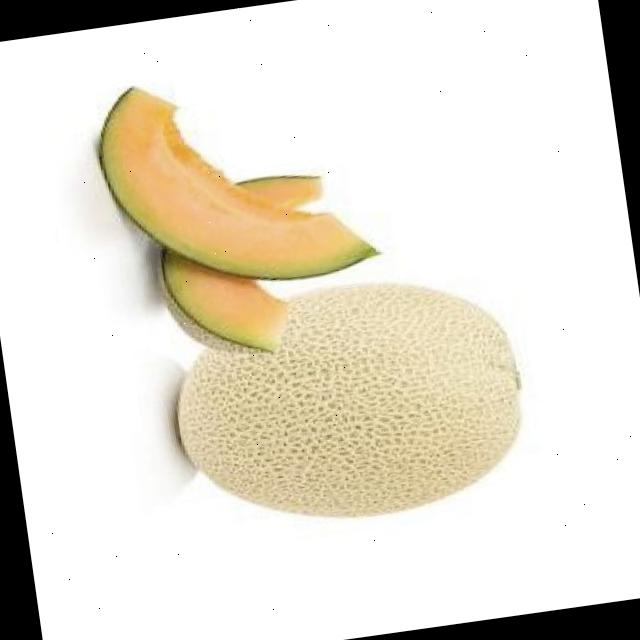Hami Melon: (159, 264, 536, 542), (90, 54, 382, 304)
